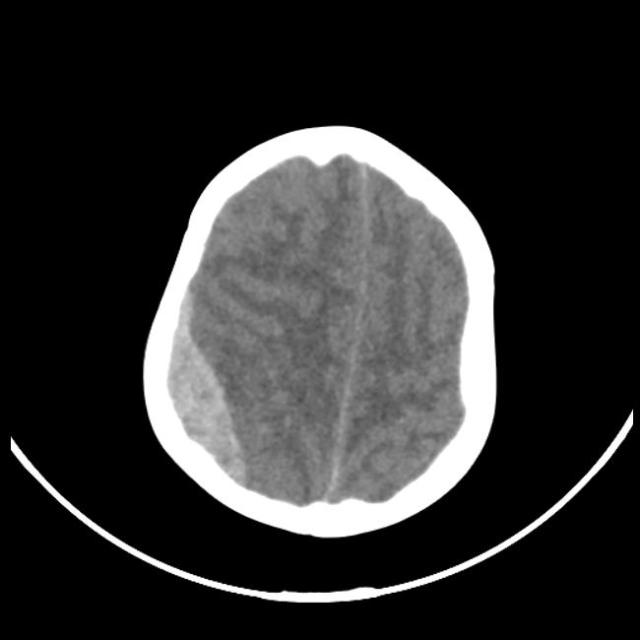lesion: (138, 122, 501, 534)
